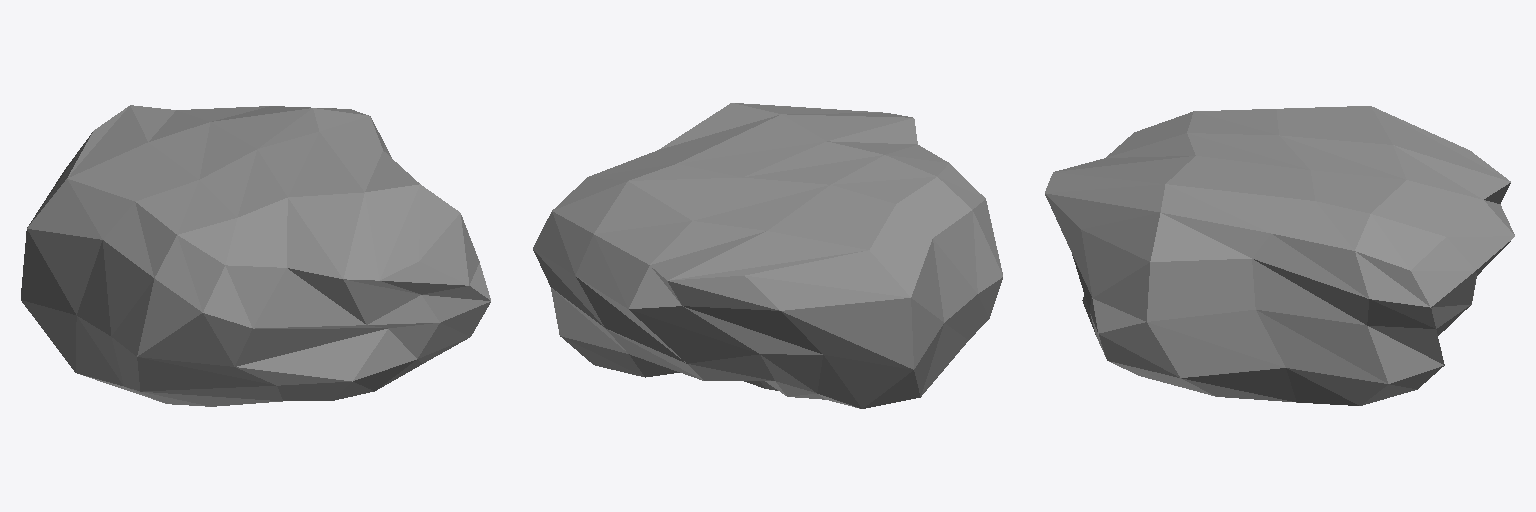
The robot description file, URDF, robot "rock_1":
<?xml version="1.0"?> 

<!-- Copyright 2023 [author] -->

<!-- Licensed under the Apache License, Version 2.0 (the "License"); -->
<!-- you may not use this file except in compliance with the License. -->
<!-- You may obtain a copy of the License at -->

<!--     http://www.apache.org/licenses/LICENSE-2.0 -->

<!-- Unless required by applicable law or agreed to in writing, software -->
<!-- distributed under the License is distributed on an "AS IS" BASIS, -->
<!-- WITHOUT WARRANTIES OR CONDITIONS OF ANY KIND, either express or implied. -->
<!-- See the License for the specific language governing permissions and -->
<!-- limitations under the License. -->

<!-- Authors: [author], [author] -->

<robot name="rock_1">
    <link name="rock_1">
        <visual>
            <origin xyz="0 0 0" rpy="0 0 0" />
            <geometry>
                <mesh filename='meshes/rock_1.stl' />
            </geometry>
            <material name="grey">
                <color rgba="0.6 0.6 0.6 1"/>
            </material>
        </visual>
        <collision>
            <origin xyz="0 0 0" rpy="0 0 0" />
            <geometry>
                <mesh filename='meshes/rock_1.stl' />
            </geometry>
        </collision>
        <inertial>
            <mass value="10"/>
            <inertia ixx="0.4" ixy="0.0" ixz="0.0" iyy="0.4" iyz="0.0" izz="0.2" />
        </inertial>
    </link>
</robot>

--- What the picture shows (computed from the rendered views, not written in the file) ---
3 views of the same robot in one strip: view 1: azimuth 30°, elevation 25°; view 2: azimuth 150°, elevation 25°; view 3: azimuth 270°, elevation 25° (orthographic).
Model rock_1 with 1 links and 0 joints (none), rooted at rock_1, posed every joint at zero.
Links seen in each view (by area): view 1: rock_1; view 2: rock_1; view 3: rock_1.
Boxes of the visible links, bbox=[...] form: rock_1: bbox=[21, 105, 490, 406]; rock_1: bbox=[533, 103, 1002, 408]; rock_1: bbox=[1045, 106, 1514, 405].
Bounding box of the posed robot: 3.18 × 3.63 × 1.68 m (x, y, z).
1 mesh visuals loaded from 1 distinct referenced files (1 binary STL).
